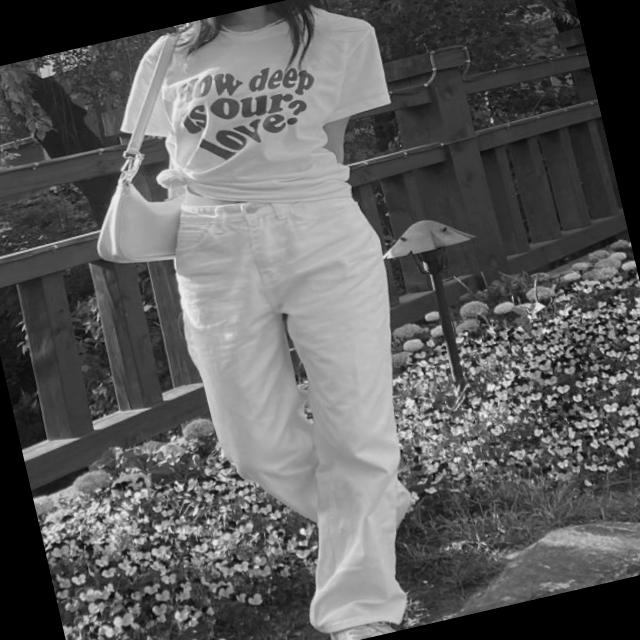cottonpants: (155, 169, 466, 640)
shortsleeve: (88, 0, 407, 239)
